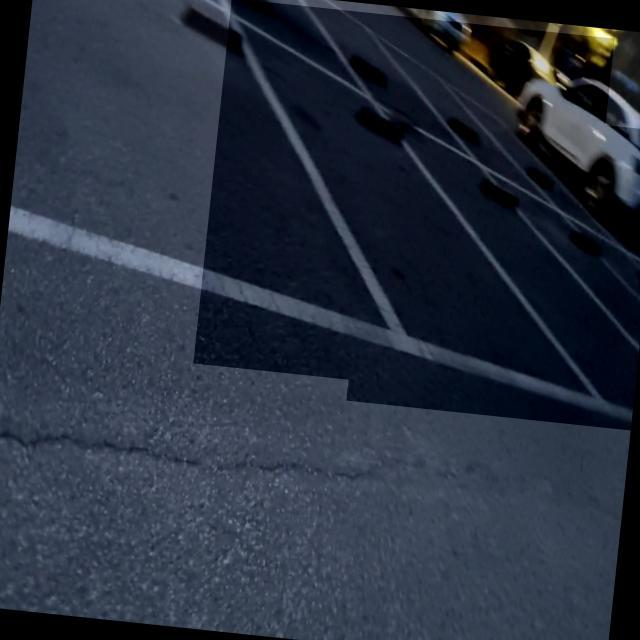empty: (192, 0, 614, 403), (345, 101, 640, 430), (469, 169, 640, 351)
